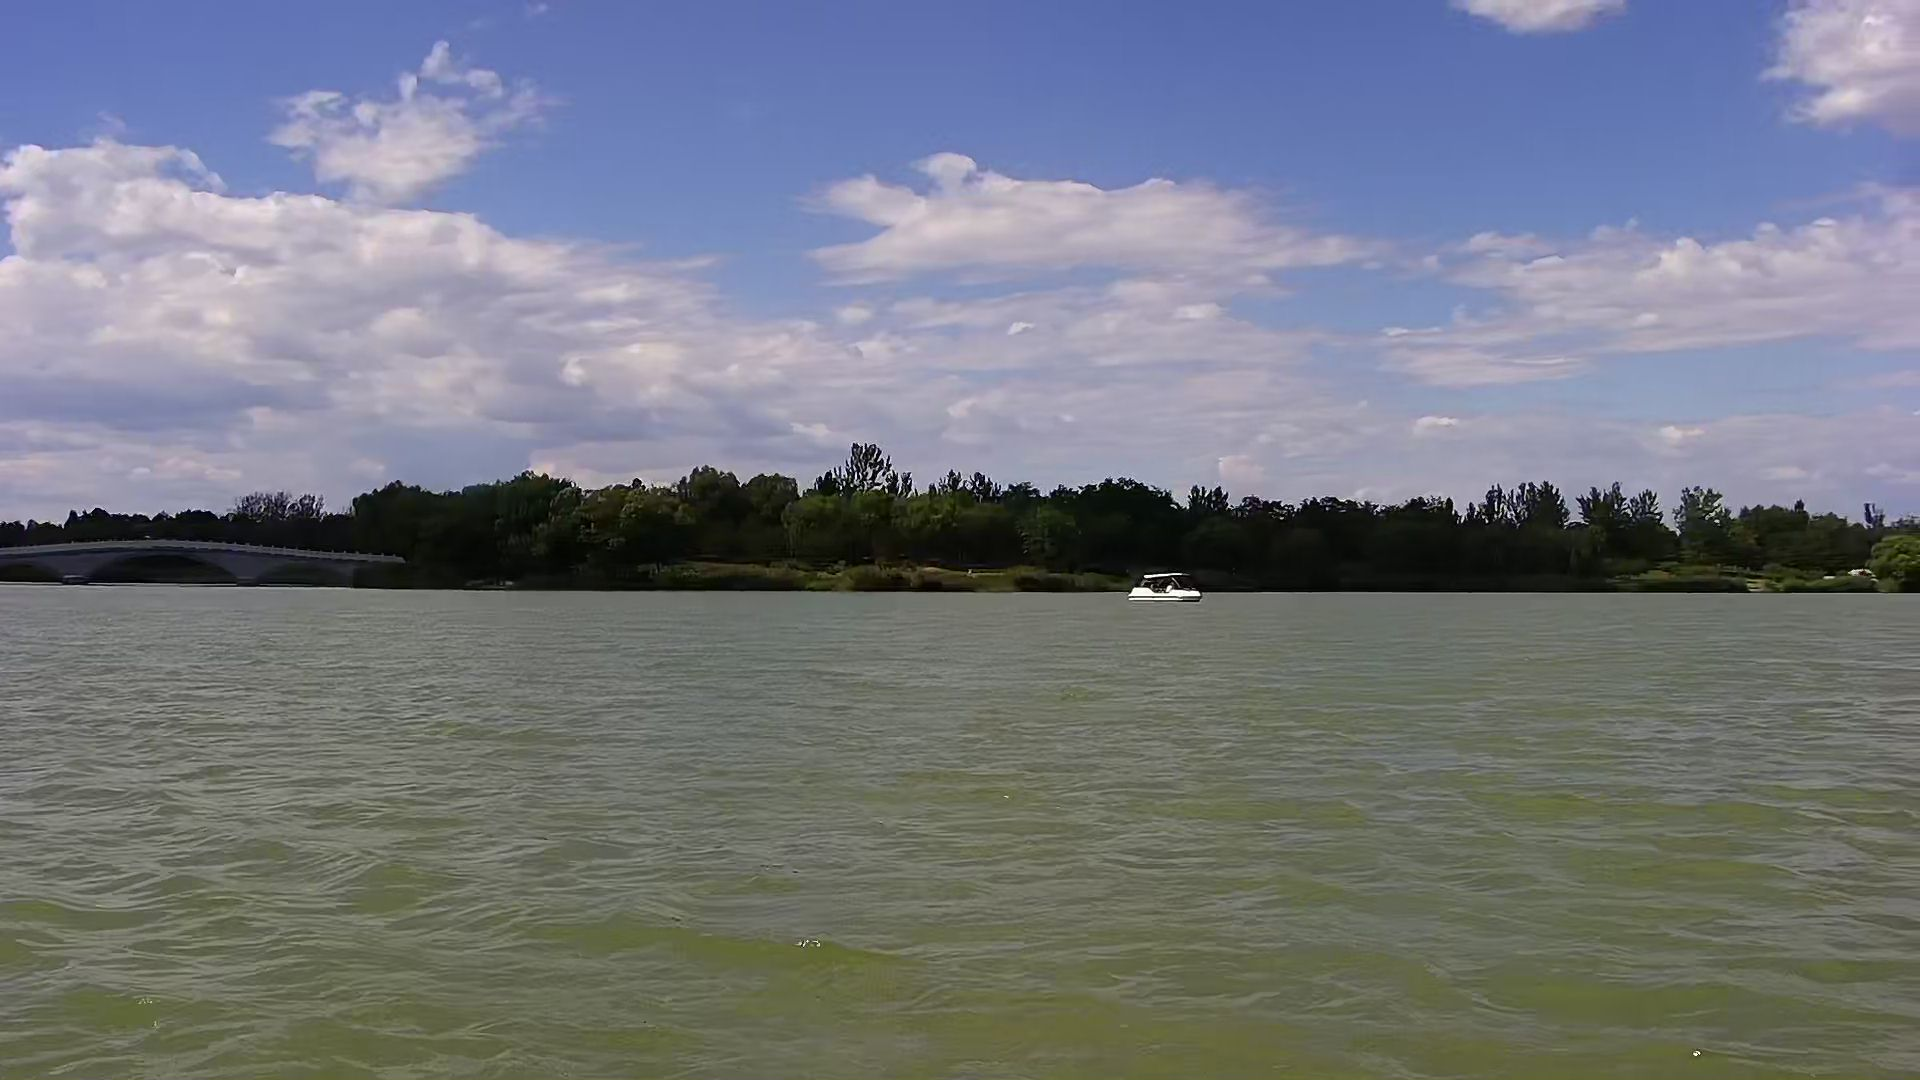boat: (1129, 564, 1207, 608)
bridge: (1, 533, 397, 592)
